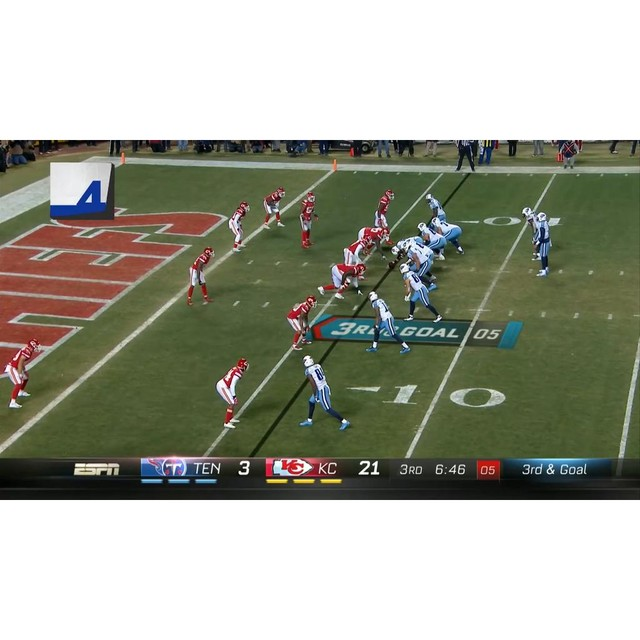american-football-player: (301, 354, 349, 431), (2, 337, 42, 411), (367, 291, 411, 353), (400, 263, 443, 322), (215, 359, 250, 428), (318, 262, 366, 298), (287, 295, 317, 350), (187, 246, 214, 307), (404, 244, 437, 288), (429, 217, 465, 257), (533, 212, 553, 277), (228, 200, 249, 252), (521, 206, 541, 260), (374, 189, 395, 239), (358, 226, 388, 260), (416, 223, 445, 258), (300, 193, 318, 248), (262, 186, 285, 228), (342, 236, 372, 266), (426, 192, 448, 224)
referee: (454, 140, 477, 172)
